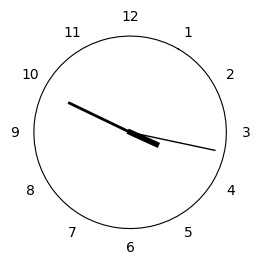12: (122, 9, 139, 22)
circle: (33, 36, 228, 229)
hours: (126, 129, 160, 148)
minutes: (67, 101, 126, 131)
seconds: (136, 133, 215, 151)
